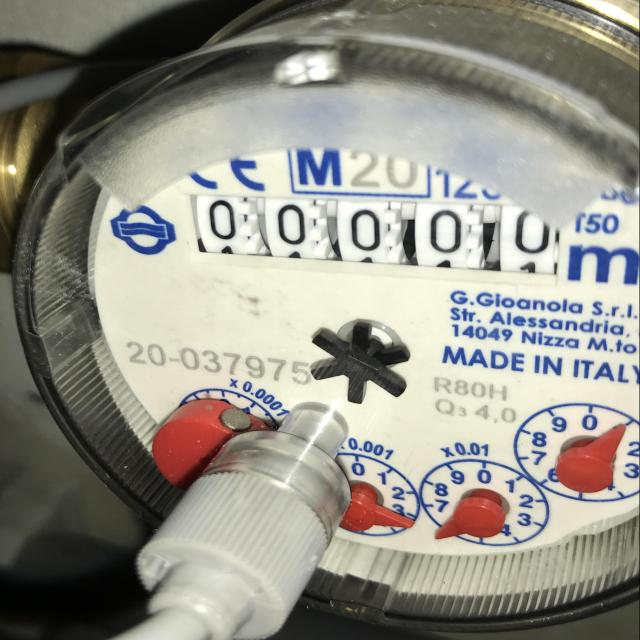gaz_meter: (90, 81, 640, 551)
indication: (188, 196, 561, 275)
